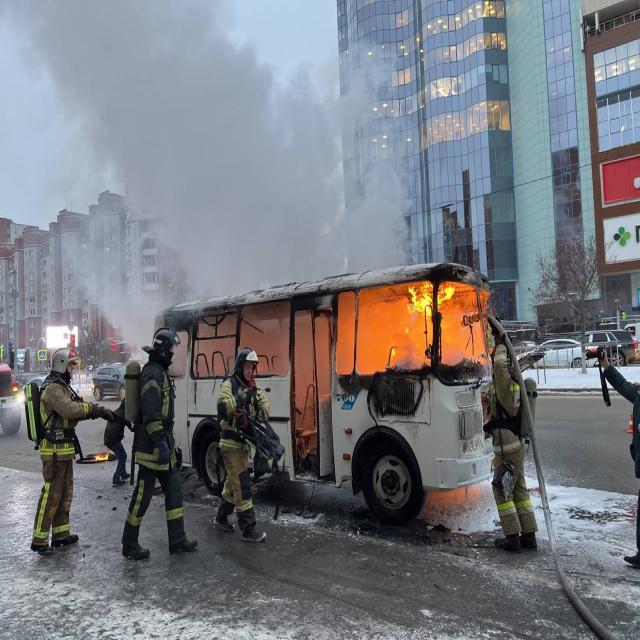Fire: (365, 303, 435, 369), (405, 276, 455, 331)
Smoke: (18, 0, 411, 297)
